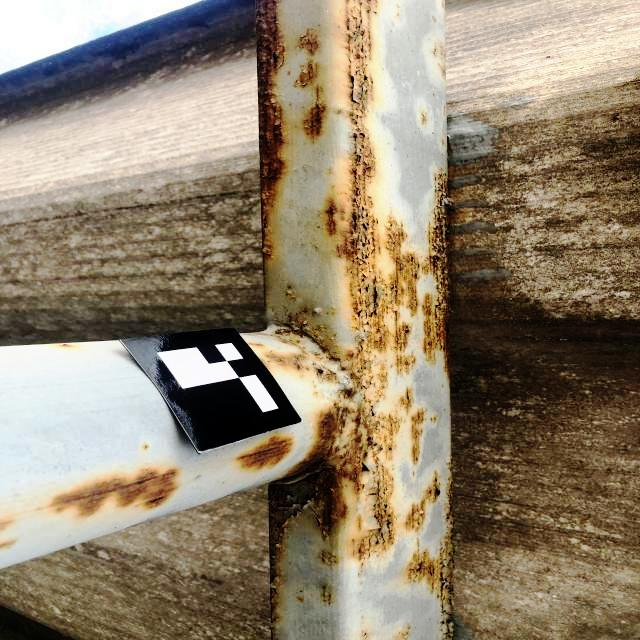Corrosion: (246, 0, 456, 640), (255, 0, 296, 314), (396, 454, 455, 640), (35, 463, 183, 521), (291, 57, 344, 146), (234, 432, 294, 471), (426, 37, 446, 86), (291, 26, 322, 57), (0, 513, 18, 534), (391, 623, 412, 640), (321, 585, 334, 607), (0, 538, 18, 550), (285, 285, 298, 301), (240, 332, 273, 337), (419, 110, 429, 126), (360, 630, 370, 640), (55, 343, 75, 348), (441, 135, 446, 148), (142, 443, 149, 451), (301, 307, 309, 314), (442, 104, 446, 117), (296, 596, 304, 602), (441, 1, 445, 10), (326, 312, 338, 315), (412, 470, 416, 476), (287, 70, 291, 75), (433, 17, 437, 22), (396, 13, 400, 17), (396, 4, 400, 7)
